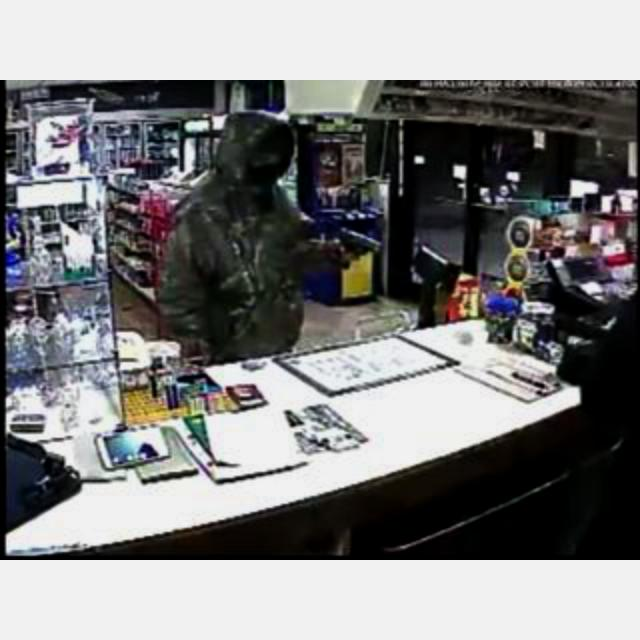criminal: (157, 110, 383, 366)
weapon: (333, 222, 383, 262)
